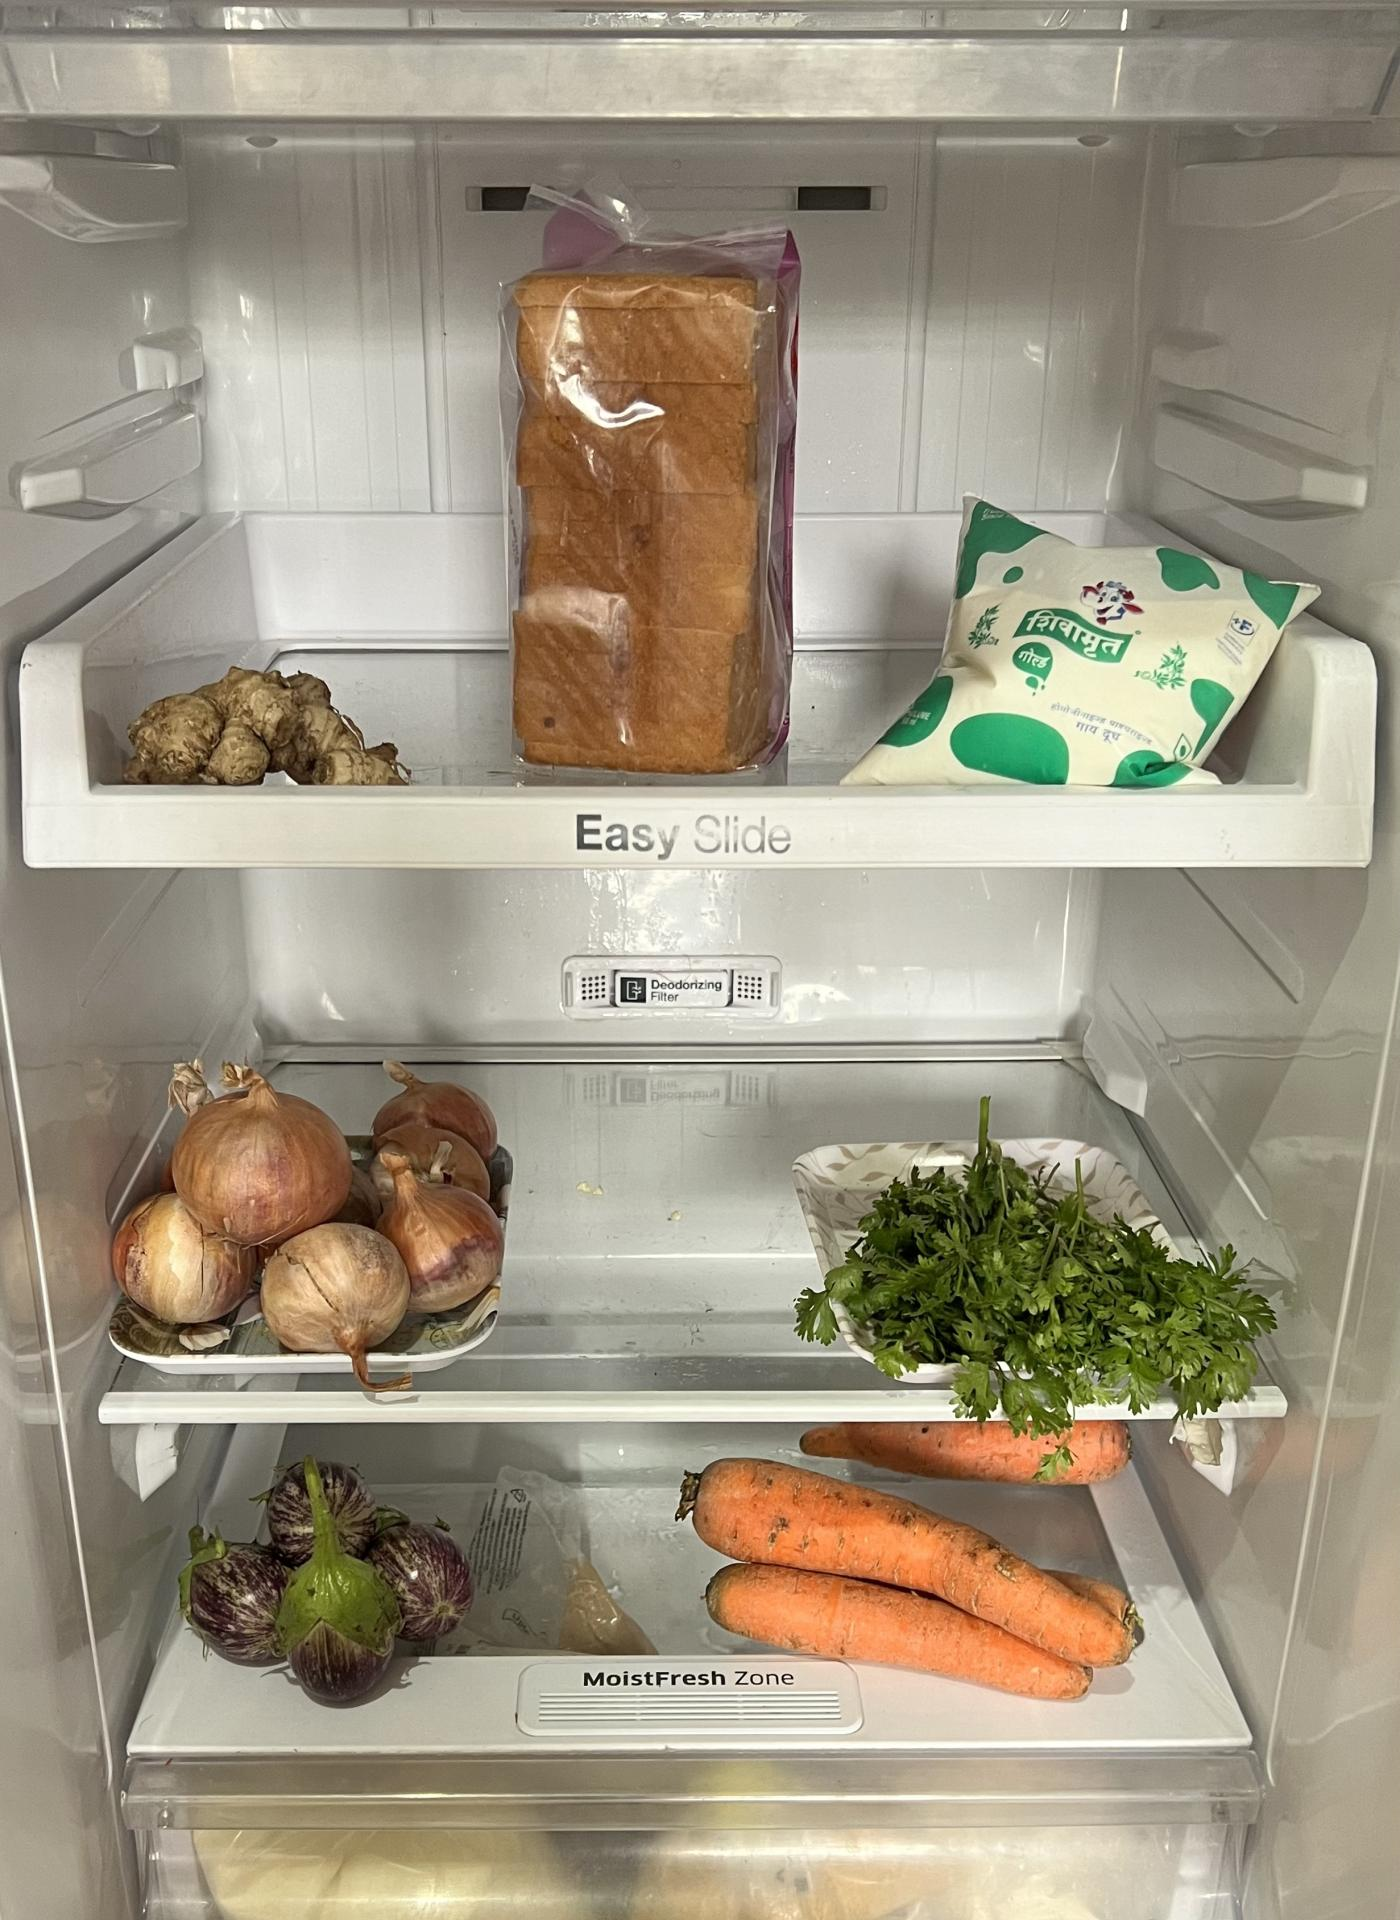bread: (491, 215, 814, 781)
carrots: (684, 1455, 1127, 1701)
coriander: (817, 1151, 1252, 1419)
ginger: (121, 665, 417, 792)
milk: (853, 484, 1279, 784)
onion: (98, 1061, 510, 1354)
